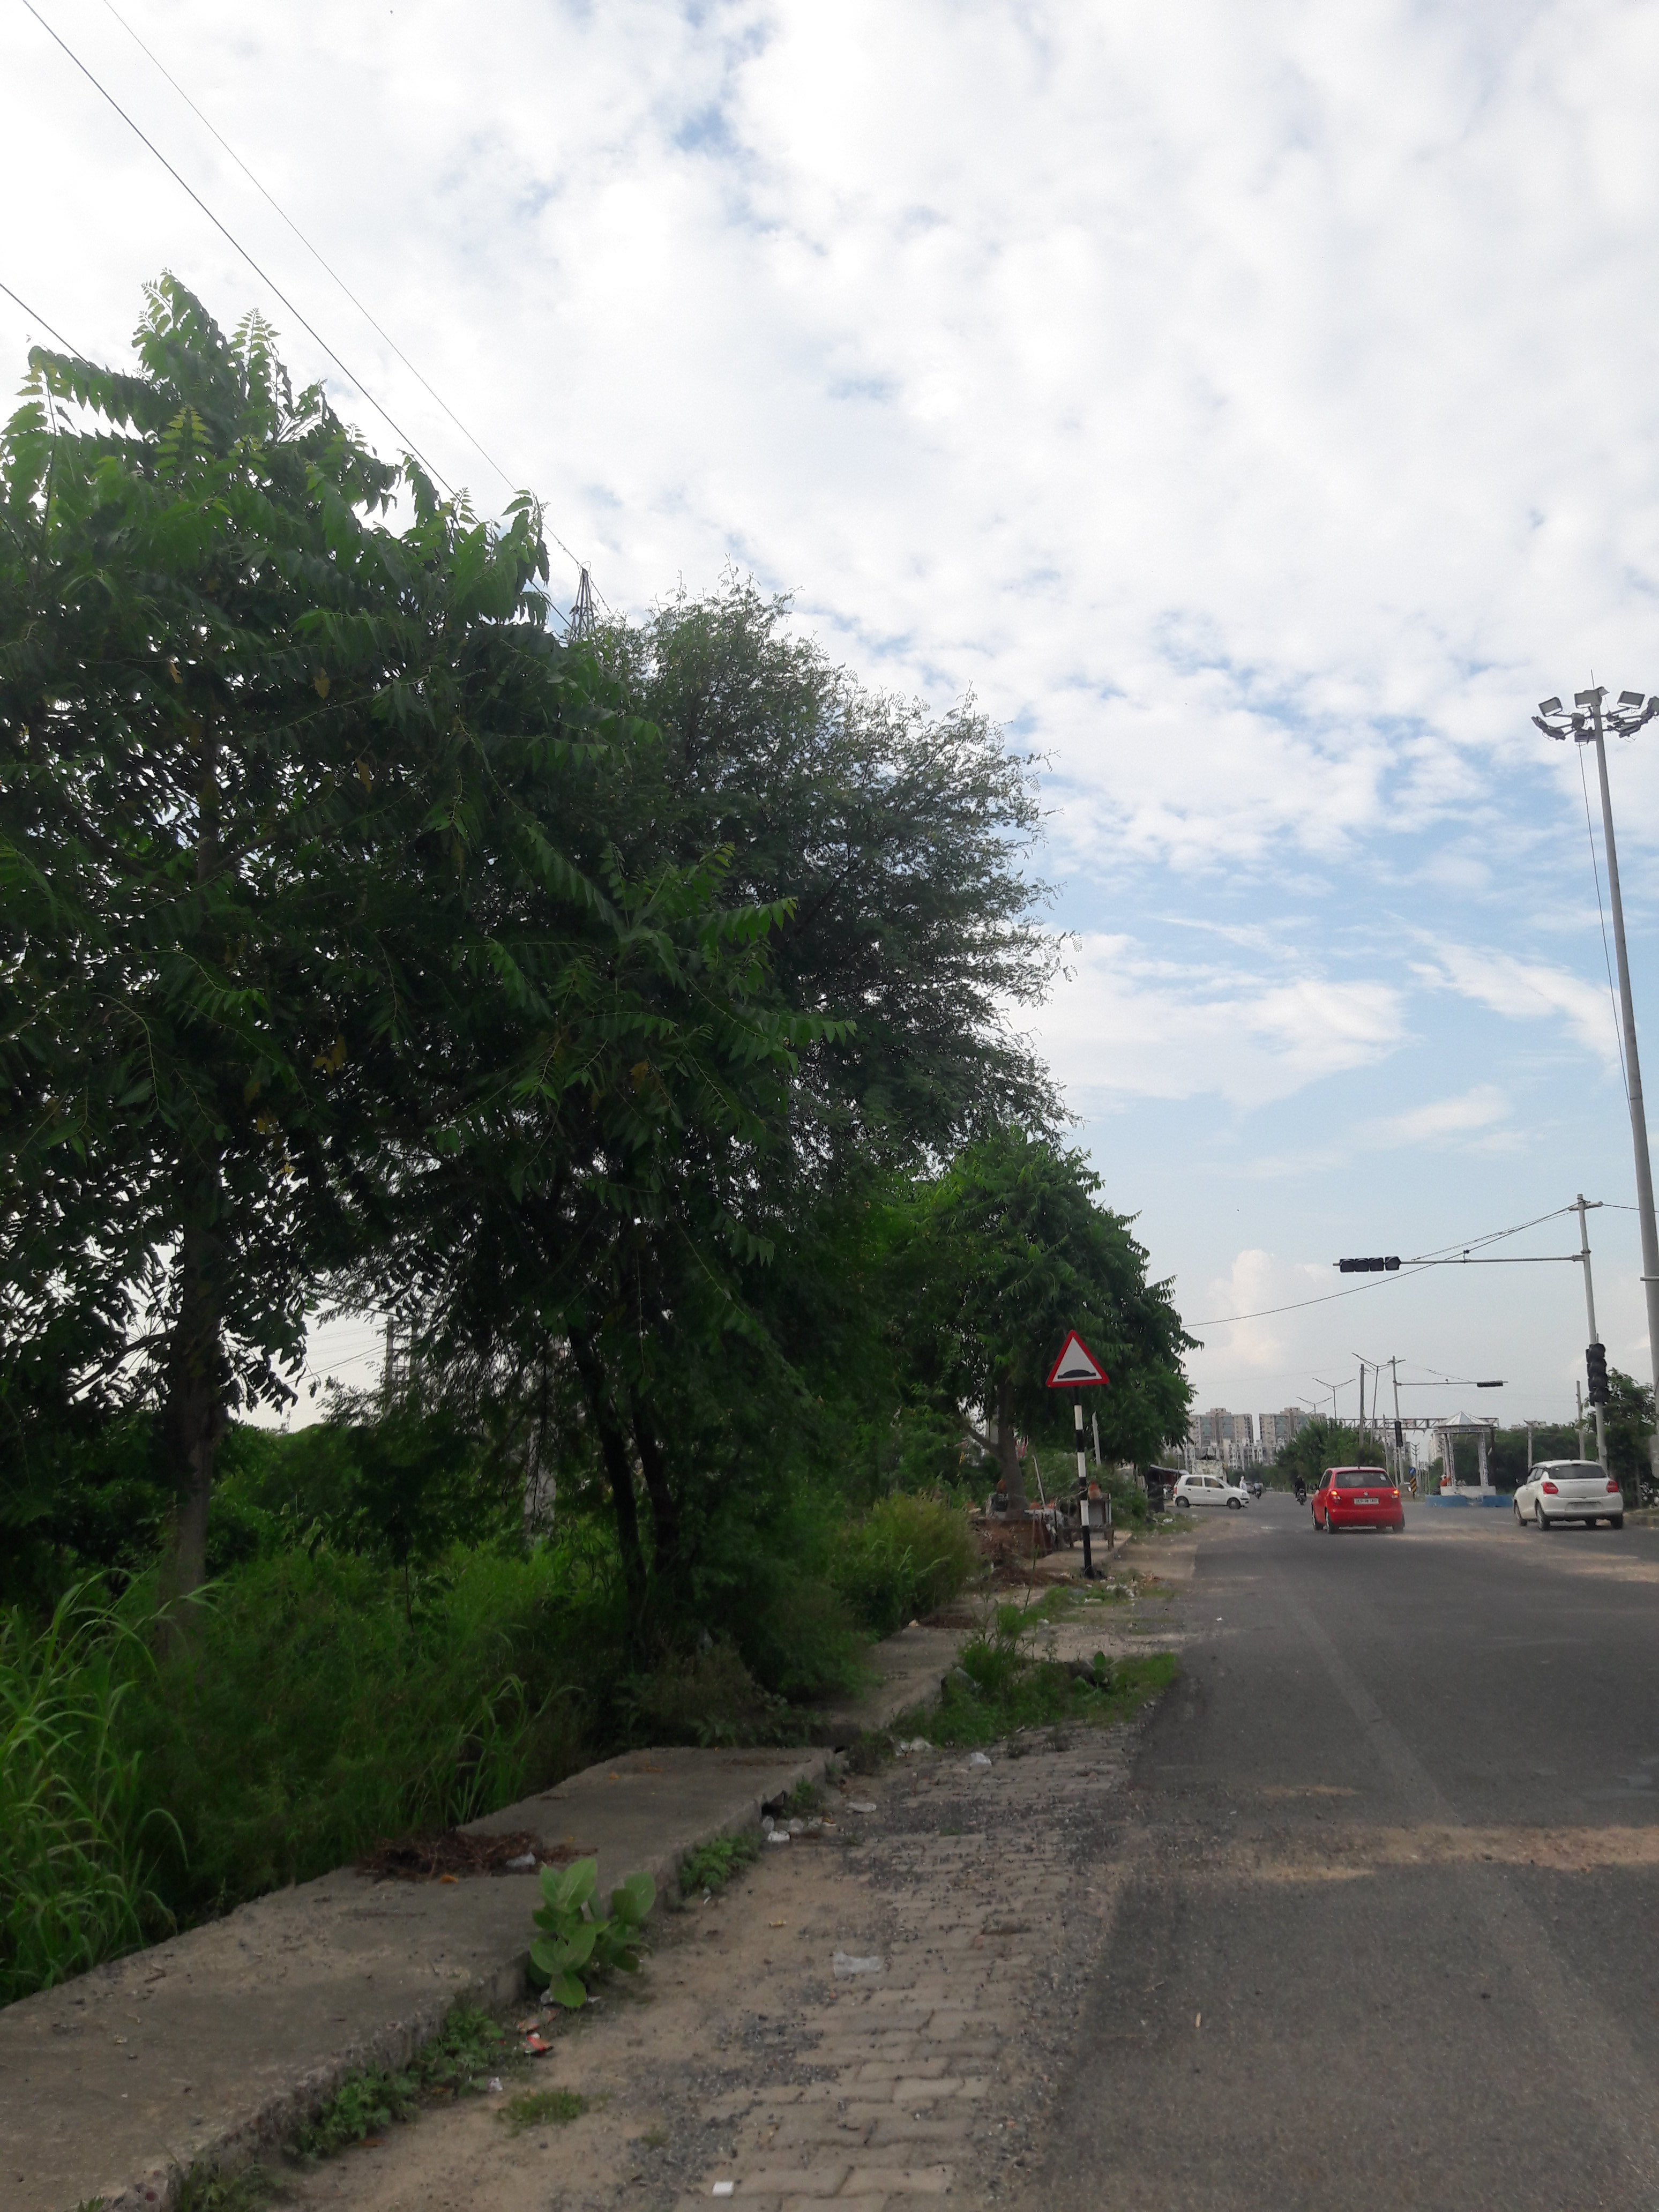traffic_sign: (1044, 1327, 1108, 1388), (1586, 1343, 1610, 1402), (1340, 1256, 1399, 1273), (1394, 1421, 1403, 1446), (1476, 1381, 1504, 1388)
